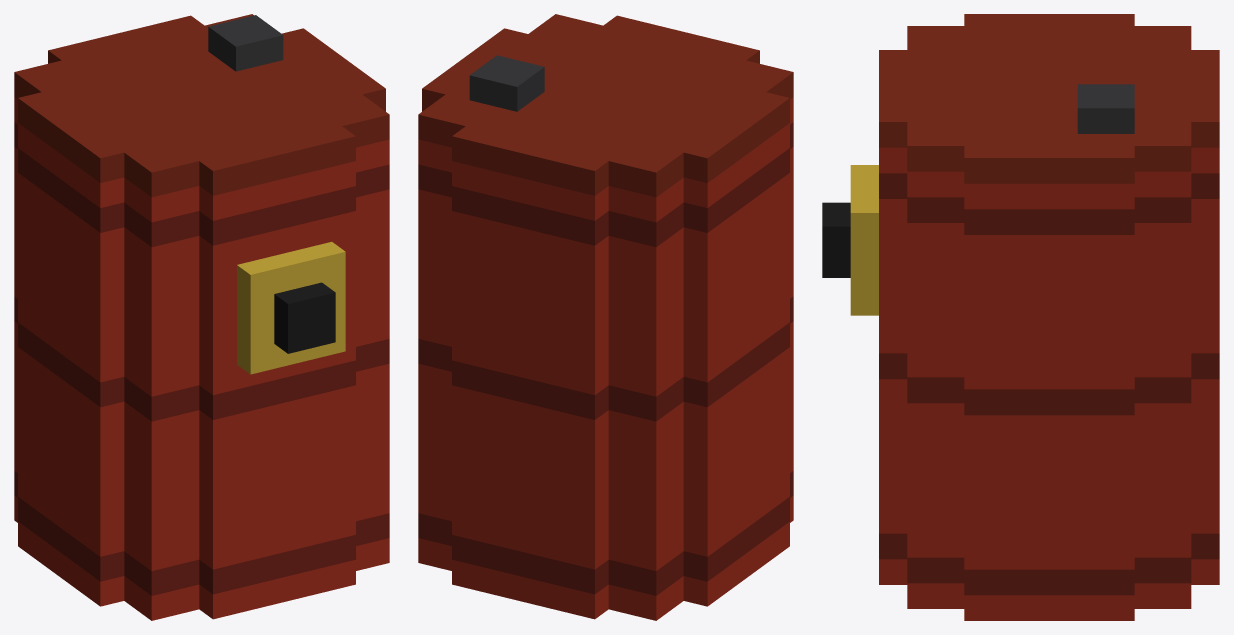
The model's file is prop_barrel.glb.
3 renders of one model, left to right at view 1: azimuth 30°, elevation 25°; view 2: azimuth 150°, elevation 25°; view 3: azimuth 270°, elevation 25°, orthographic. The views are drawn at different scales.
Parts seen in each view (by area): view 1: prop_barrel; view 2: prop_barrel; view 3: prop_barrel.
Part boxes in pixels (x1,y1,x2,y2): prop_barrel: (14, 14, 389, 620); prop_barrel: (418, 14, 793, 620); prop_barrel: (822, 14, 1219, 620).
Size of the model in its own units: 0.6 by 0.95 by 0.6999.
